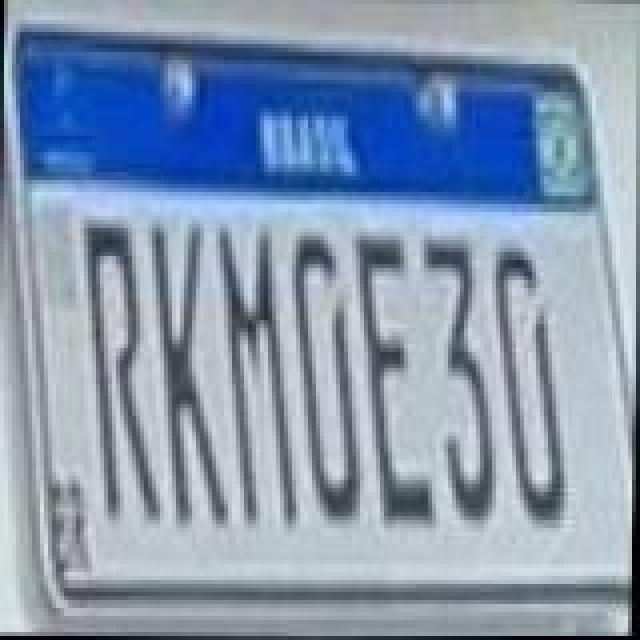3: (420, 242, 500, 526)
D: (490, 252, 574, 532), (286, 228, 366, 520)
E: (344, 232, 440, 528)
K: (140, 220, 236, 532)
M: (212, 224, 308, 532)
R: (80, 216, 172, 528)
